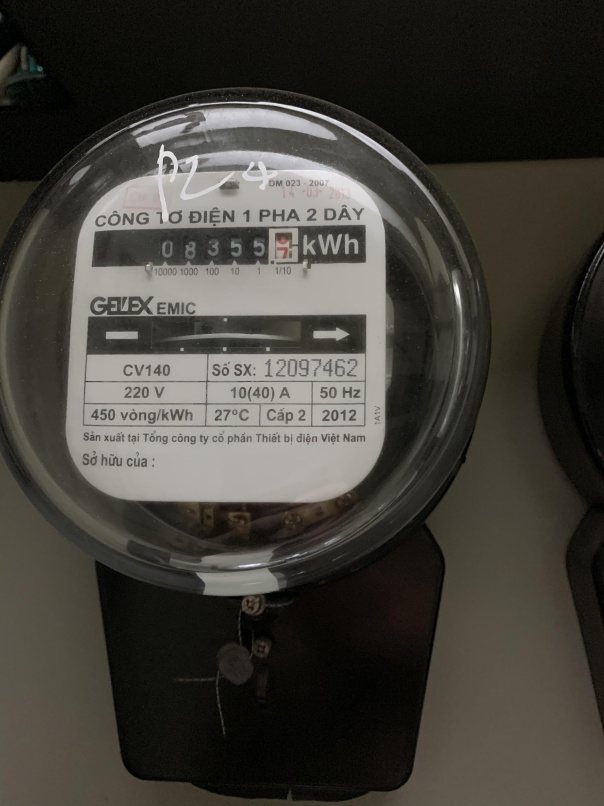counter: (92, 225, 369, 268)
electricity_meter: (5, 83, 492, 598)
